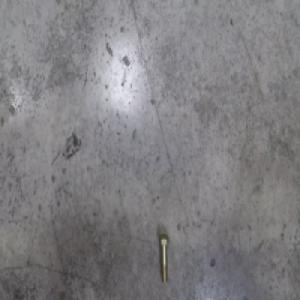Bolt: (158, 232, 170, 283)
